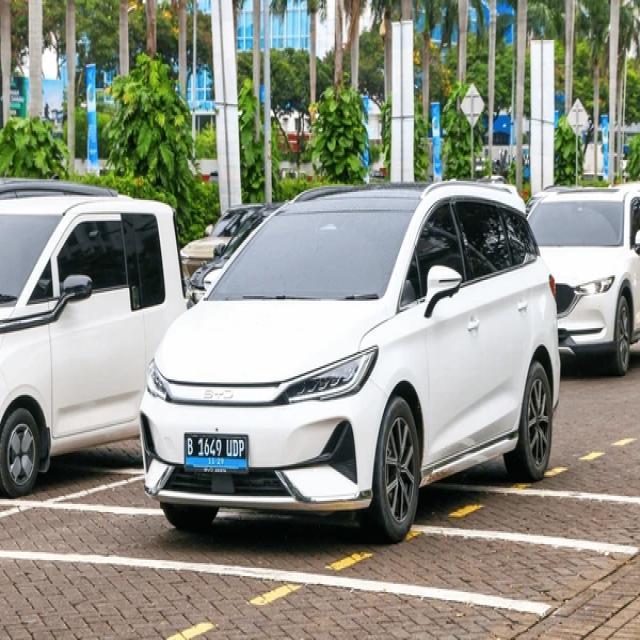byd: (204, 383, 236, 404)
